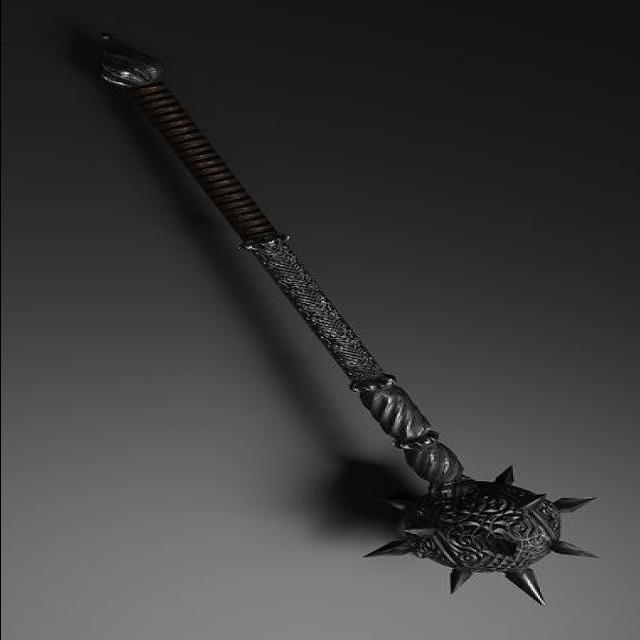mace: (94, 42, 603, 609)
